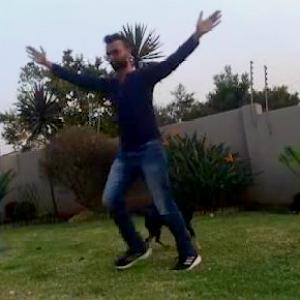takeoff: (52, 38, 226, 252)
